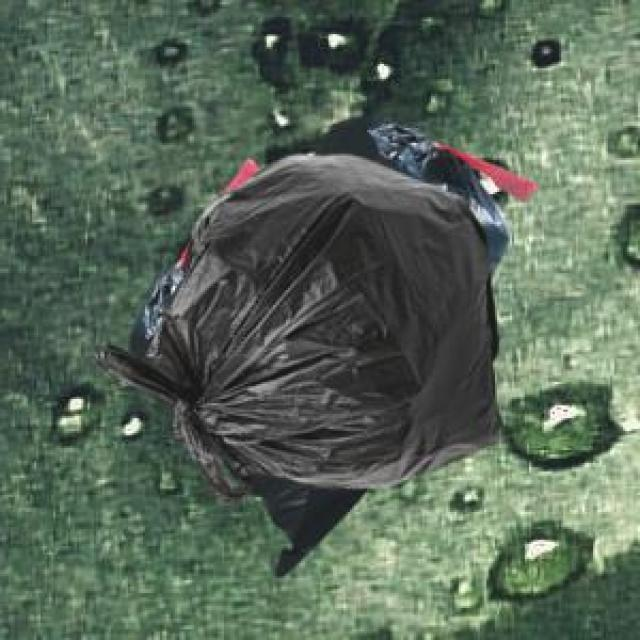Trashbag: (99, 144, 509, 510)
